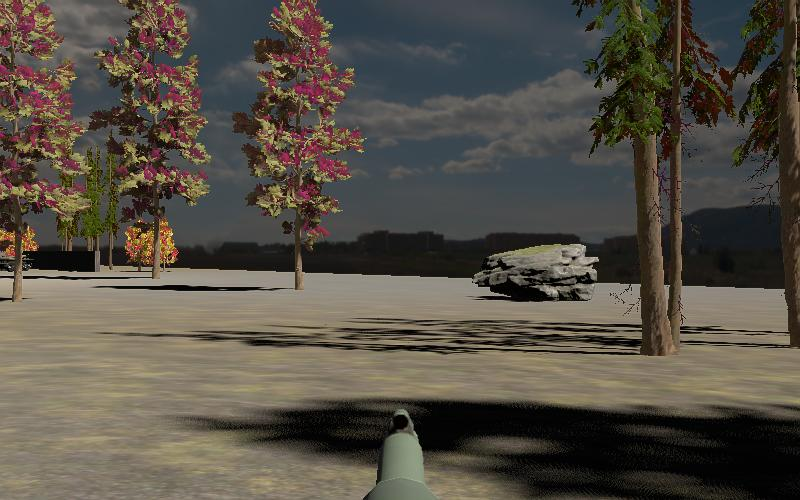Tank: (0, 251, 38, 274)
